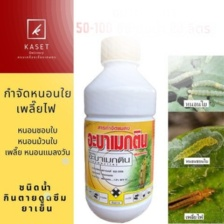insecticide: (80, 35, 158, 224)
